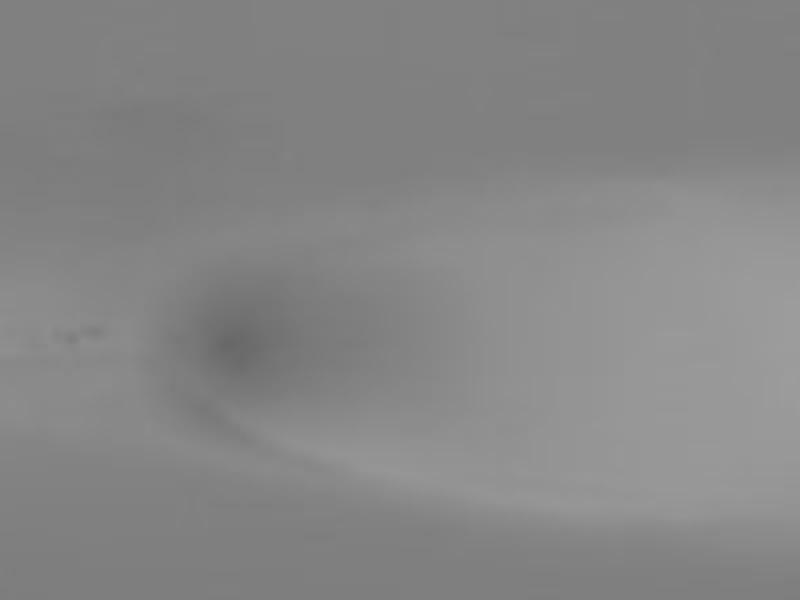defect: (202, 296, 302, 392), (60, 325, 77, 345), (85, 327, 105, 342)
